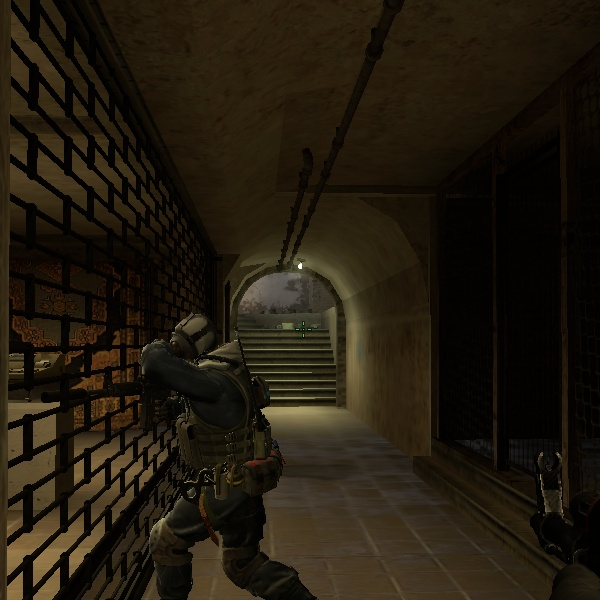ct_body: (92, 306, 302, 600)
ct_head: (157, 306, 234, 375)
